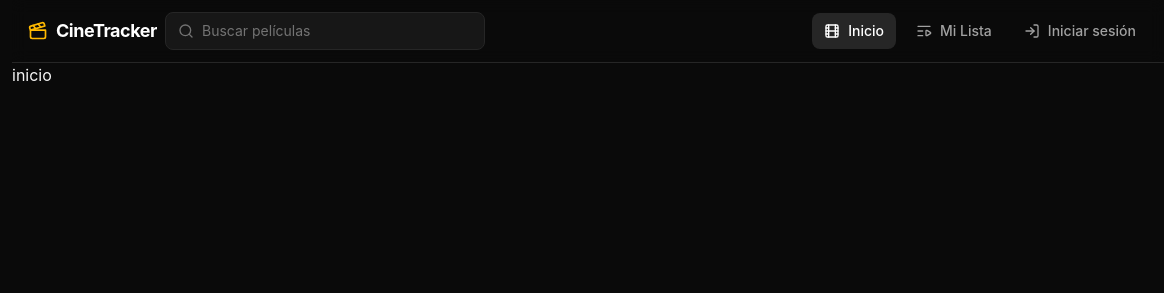
Navbar suggestions › reopens the panel on click after picking a suggestion
In the dropdown labelled "Buscar películas": (337, 31) [202, 21, 472, 41], type "matrix"
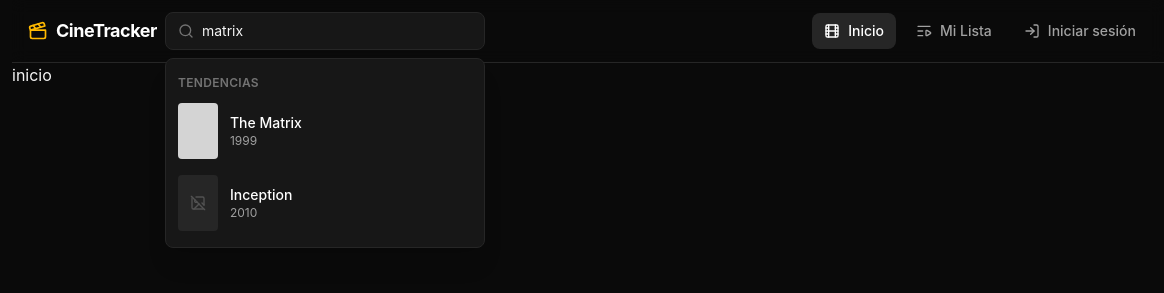
Click the option "The Matrix 1999": click(240, 131) [178, 103, 302, 159]
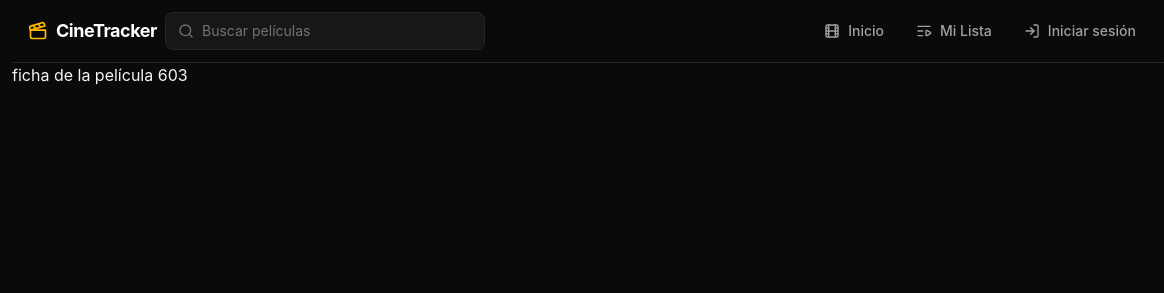
expect the text "ficha de la película 603" is shown: met, box [12, 65, 188, 85]
El input nunca perdió el foco, así que sólo el `click` puede reabrirlo.
Click the dropdown labelled "Buscar películas": click(337, 31) [202, 21, 472, 41]
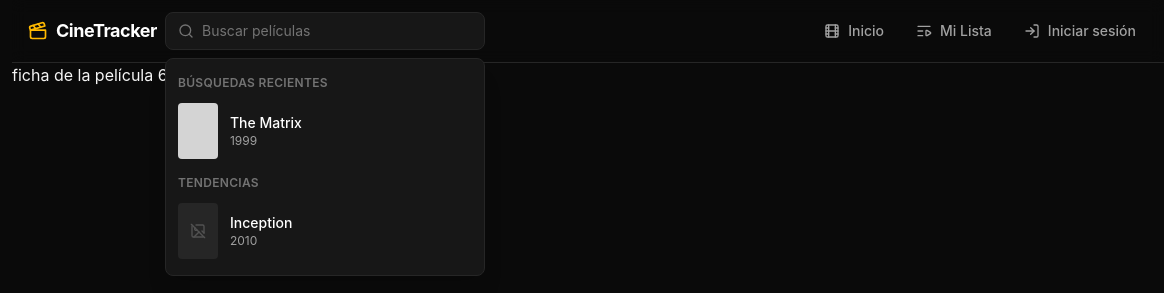
expect the dropdown labelled "Buscar películas" is empty: met, box [202, 21, 472, 41]
expect the text "Búsquedas recientes" is shown: met, box [178, 75, 328, 90]
